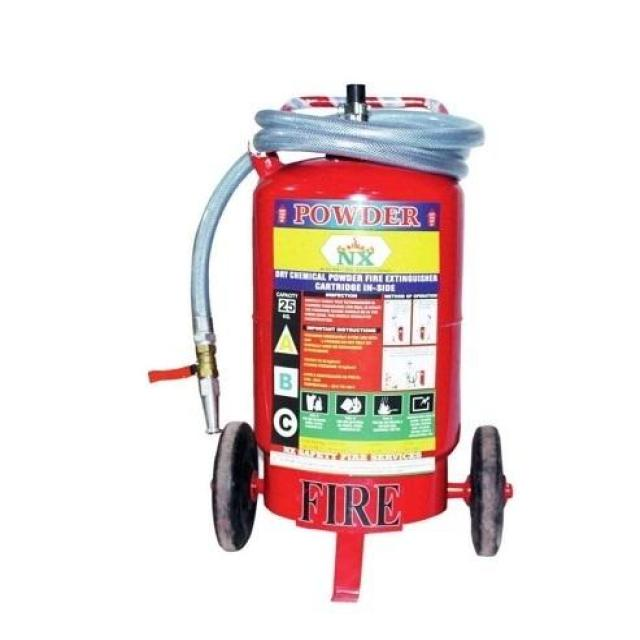fire_extinguisher: (180, 77, 492, 540)
